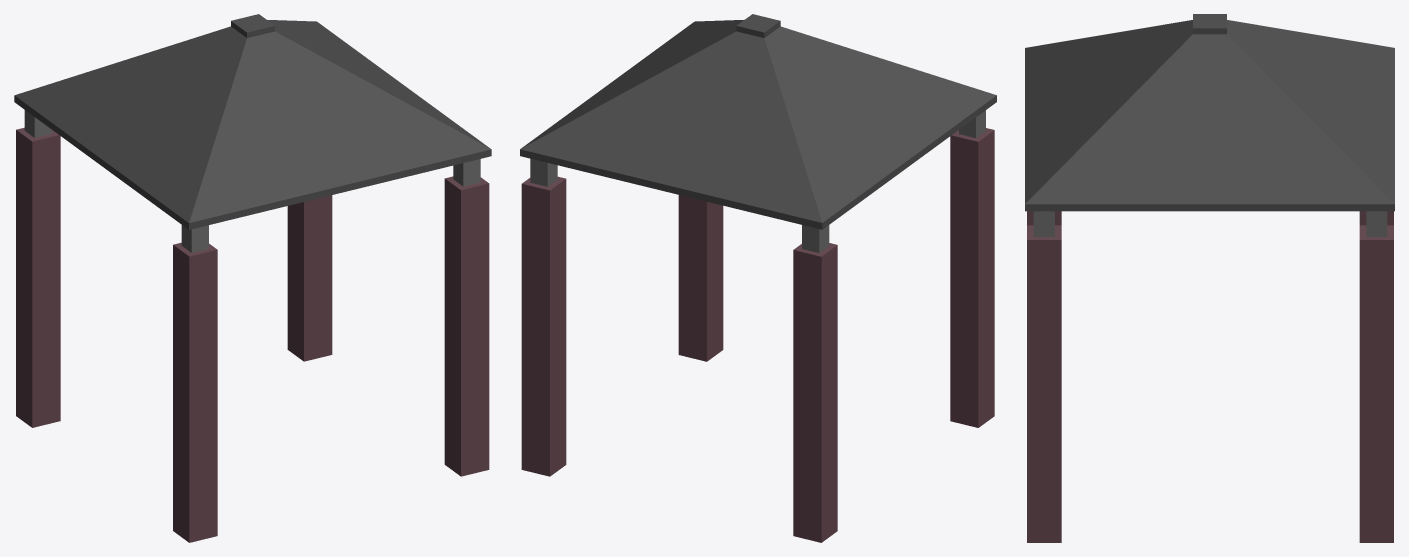
The model's file is PicnicShelter.fbx.
3 renders of one model, left to right at view 1: azimuth 30°, elevation 25°; view 2: azimuth 150°, elevation 25°; view 3: azimuth 270°, elevation 25°, orthographic. The views are drawn at different scales.
Visible parts, largest first — view 1: PicnicShelter; view 2: PicnicShelter; view 3: PicnicShelter.
Part boxes in pixels (x1,y1,x2,y2): PicnicShelter: (14, 14, 491, 542); PicnicShelter: (520, 14, 996, 542); PicnicShelter: (1025, 14, 1394, 542).
Bounding box in the file's own units: 3.1 × 4.1 × 3.1.
